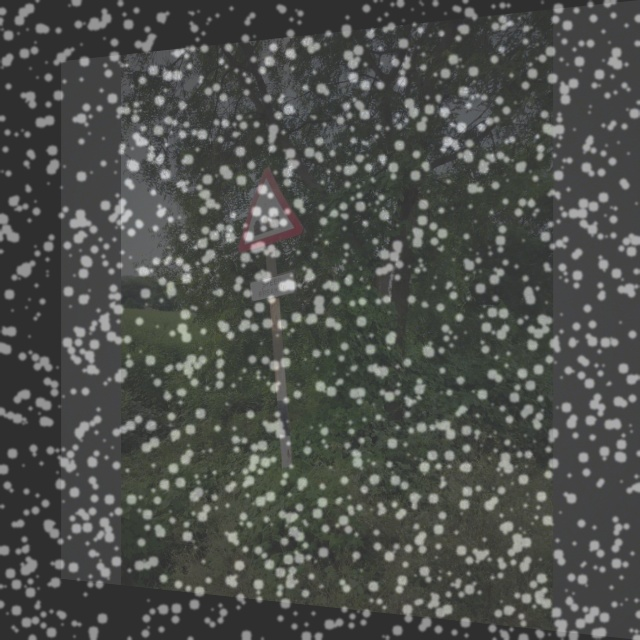Hump_or_Rough_Road: (236, 164, 306, 250)
